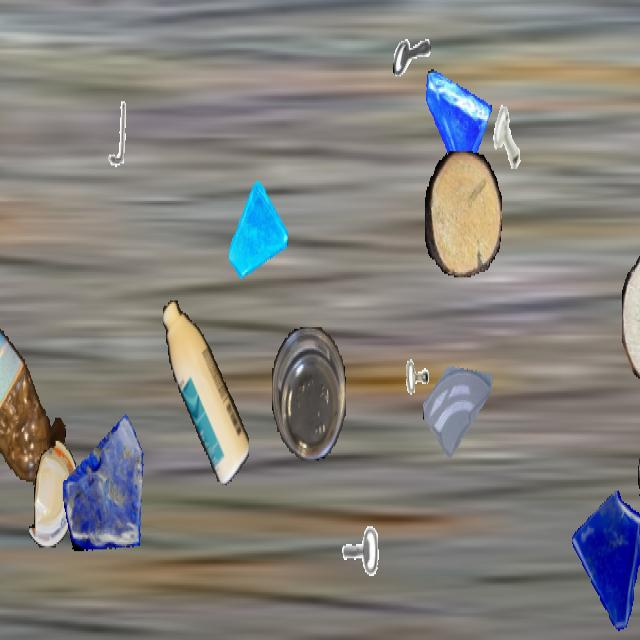glass: (63, 404, 149, 556), (568, 489, 640, 638), (423, 336, 495, 464), (422, 64, 492, 188), (229, 182, 287, 284)
metal: (482, 92, 534, 185), (331, 522, 381, 612), (390, 355, 438, 441), (96, 98, 136, 169), (393, 21, 431, 89)
plastic: (163, 300, 249, 486), (0, 310, 68, 483), (272, 327, 346, 459), (29, 441, 79, 547)
wood: (425, 151, 501, 276), (622, 251, 640, 382), (638, 438, 640, 526)
